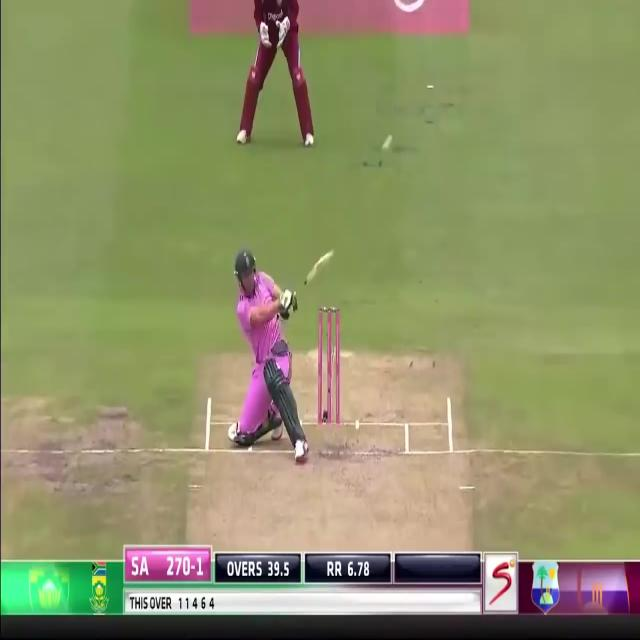Ball: (230, 250, 305, 454)
Fielder: (228, 0, 324, 154)
